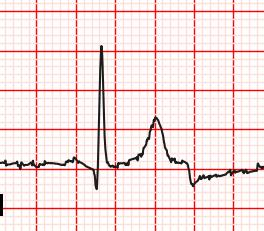Pathological Q Wave: (77, 154, 104, 192)
